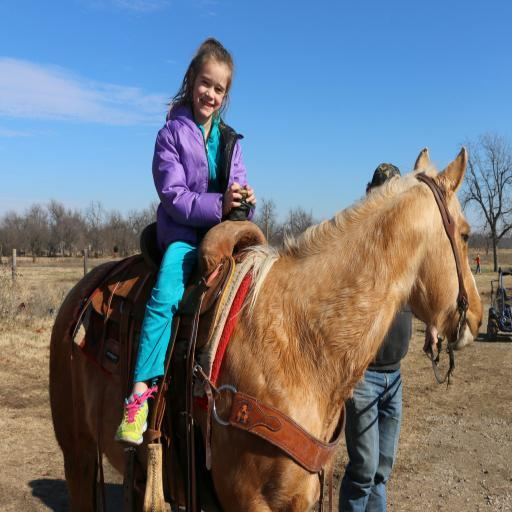Horse: (49, 144, 485, 512)
